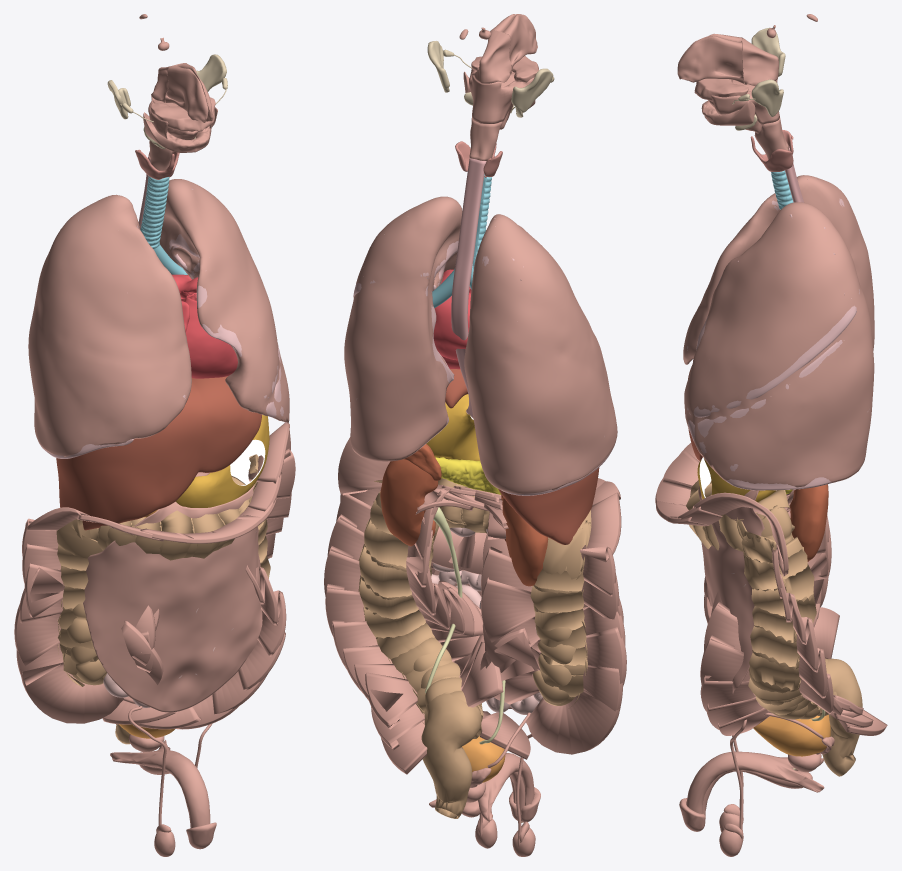
The model's file is organs.glb.
3 views of the same model, side by side, from view 1: azimuth 30°, elevation 25°; view 2: azimuth 150°, elevation 25°; view 3: azimuth 270°, elevation 25° (orthographic). The views are drawn at different scales.
Parts seen in each view (by area): view 1: Pleura, Greater omentum, Mesocolic taenia, Liver, Omental taenia, Ascending colon, Transverse colon, Corpus cavernosum of penis, Right ventricle, Stomach, Gingiva, Mucosa of nasal cavity (+7 smaller); view 2: Pleura, Mesocolic taenia, Free taenia, Descending colon, Ascending colon, Sigmoid colon, Liver, Oesophagus, Kidney.l, Omental taenia, Kidney.r, Stomach (+17 smaller); view 3: Pleura, Descending colon, Mesocolic taenia, Omental taenia, Greater omentum, Corpus cavernosum of penis, Mucosa of nasal cavity, Sigmoid colon, Free taenia, Urinary bladder, Kidney.l, Inferior lobe of left lung (+16 smaller).
Boxes of the visible parts, x1,y1,x2,y2 form: Pleura: (28, 179, 289, 456); Greater omentum: (83, 484, 262, 712); Mesocolic taenia: (14, 423, 295, 723); Liver: (56, 376, 261, 530); Omental taenia: (102, 565, 286, 729); Ascending colon: (56, 519, 106, 686); Transverse colon: (97, 454, 258, 560); Corpus cavernosum of penis: (110, 740, 210, 828); Right ventricle: (184, 292, 237, 378); Stomach: (176, 415, 269, 507); Gingiva: (143, 97, 215, 152); Mucosa of nasal cavity: (165, 63, 213, 122); Pleura: (344, 196, 617, 493); Mesocolic taenia: (324, 437, 626, 774); Free taenia: (406, 484, 541, 707); Descending colon: (358, 480, 483, 738); Ascending colon: (530, 510, 591, 708); Sigmoid colon: (421, 693, 481, 818); Liver: (445, 369, 599, 544); Oesophagus: (451, 158, 486, 418); Kidney.l: (380, 459, 438, 546); Omental taenia: (431, 527, 539, 759); Kidney.r: (502, 498, 548, 586); Stomach: (426, 394, 480, 460); Pleura: (683, 175, 874, 487); Descending colon: (741, 505, 836, 719); Mesocolic taenia: (655, 443, 887, 735); Omental taenia: (700, 576, 771, 735); Greater omentum: (698, 486, 764, 693); Corpus cavernosum of penis: (686, 751, 824, 813); Mucosa of nasal cavity: (677, 33, 743, 83); Sigmoid colon: (822, 658, 862, 776); Free taenia: (784, 489, 839, 658); Urinary bladder: (753, 714, 830, 756); Kidney.l: (790, 484, 828, 561); Inferior lobe of left lung: (688, 340, 869, 490).
Size of the model in its own units: 0.3178 by 0.8931 by 0.2258.
